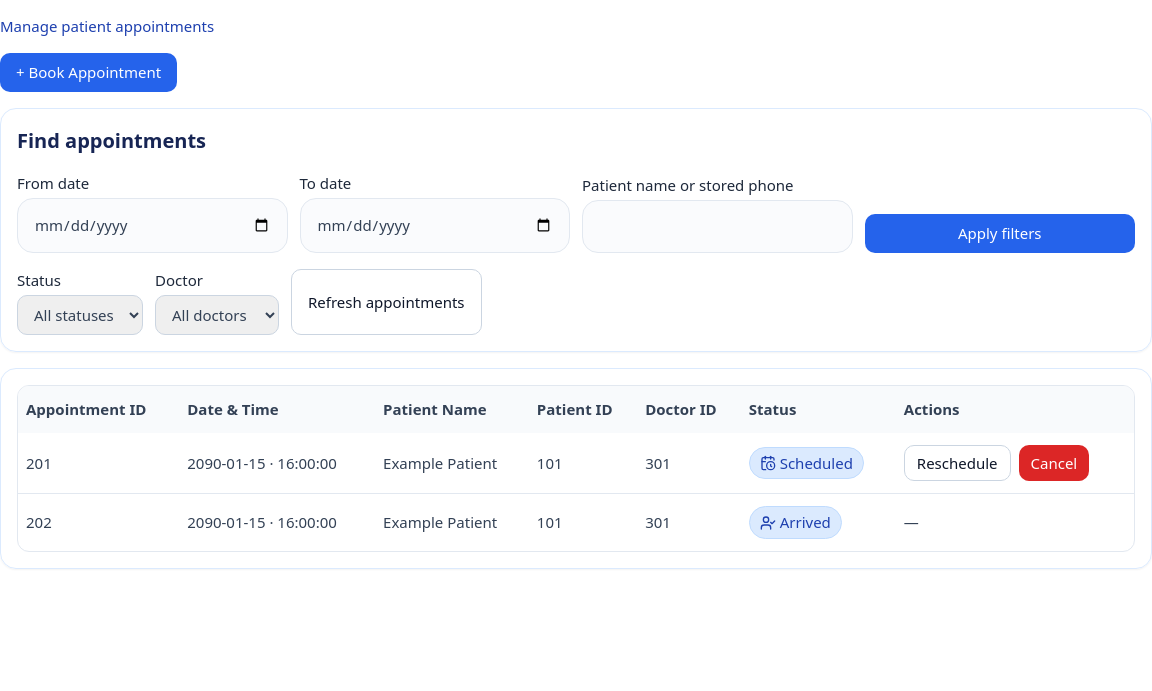
ADM-05 appointment hub › only offers Scheduled actions, confirms before mutations, and displays authoritative reschedule/cancel results
Click the button with aria-label "Reschedule appointment 201".
click(957, 463)  # box [904,445,1010,481]
(page scrolled)
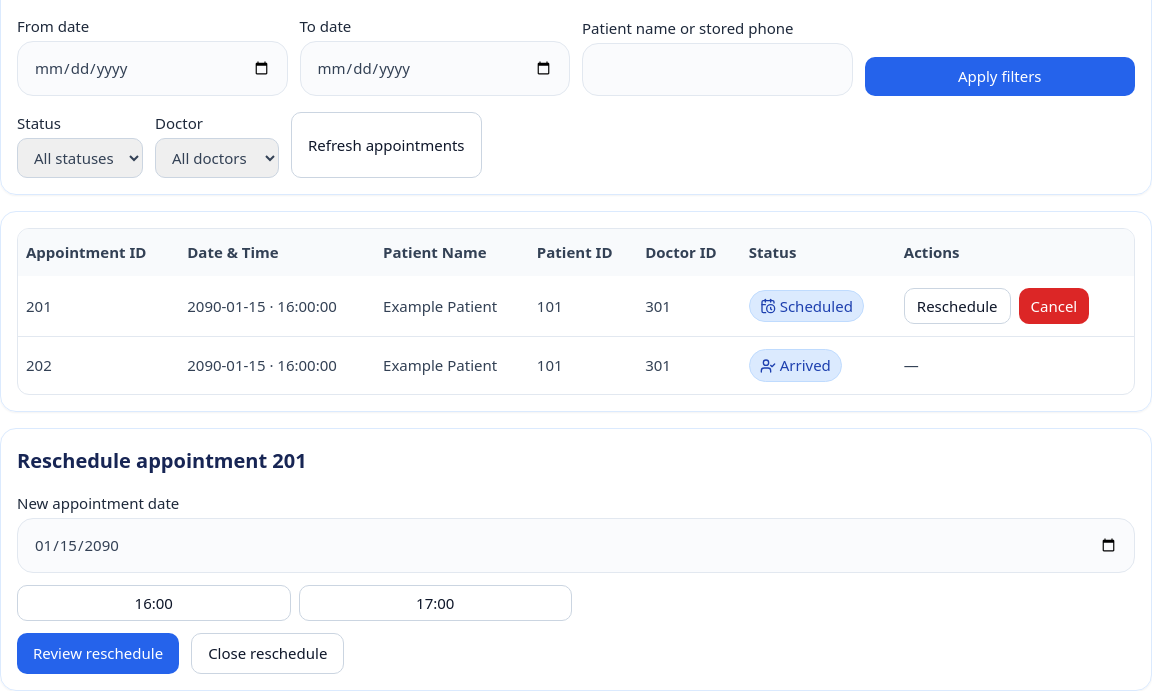
Click the button "17:00".
click(435, 603)  # box [298,585,572,621]
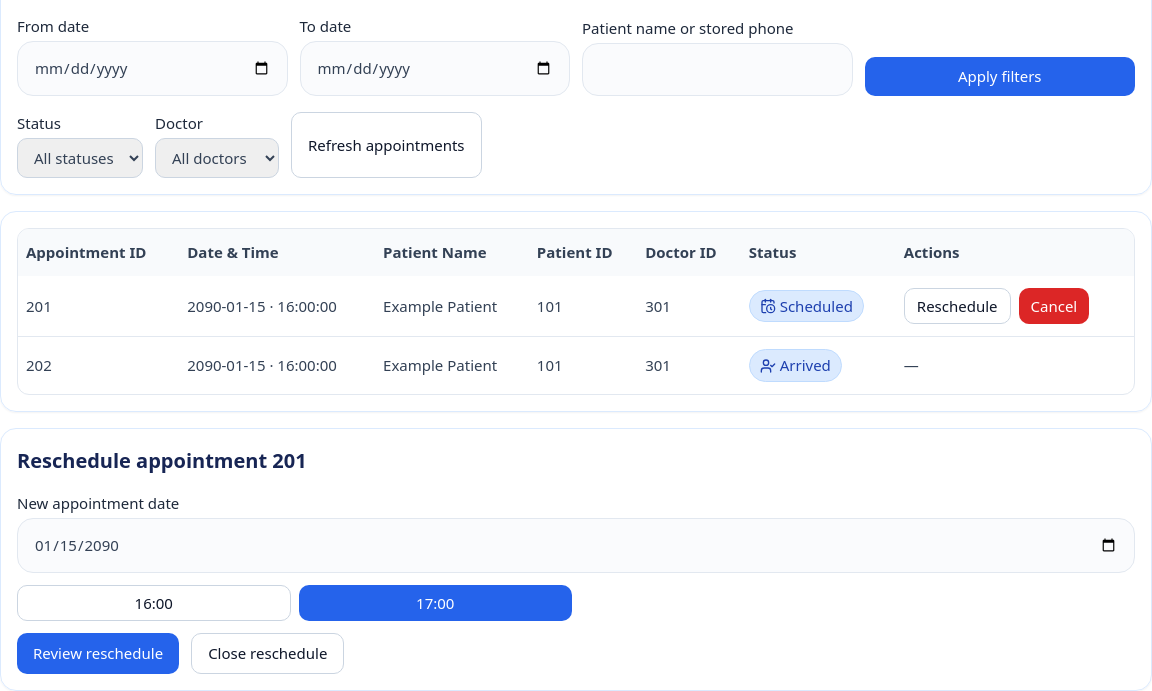
Click the button "Review reschedule".
click(98, 654)  # box [17,633,179,674]
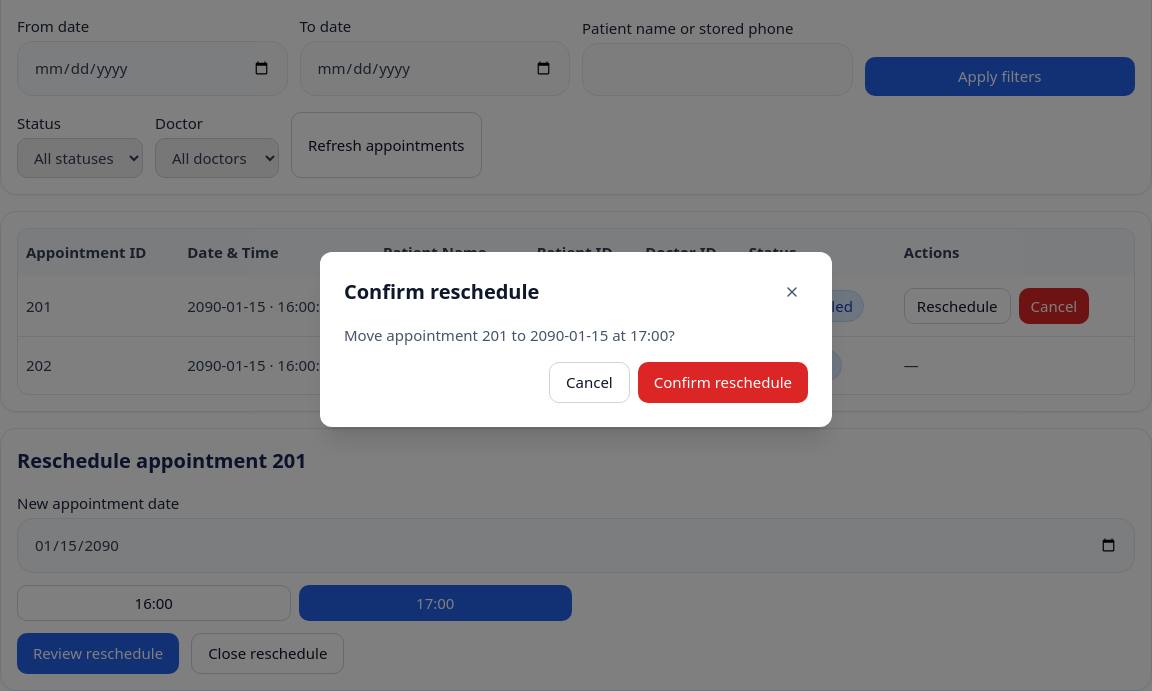
Click the button "Confirm reschedule".
click(723, 382)  # box [638,362,808,402]
(page scrolled)
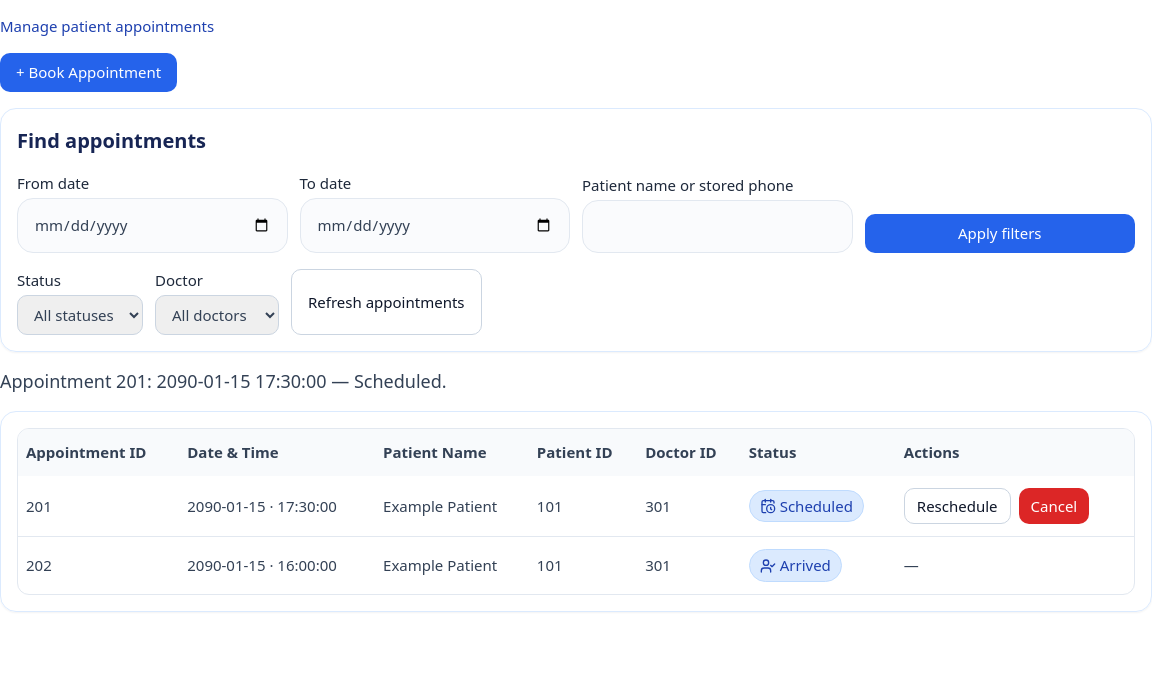
Now the text "Appointment 201: 2090-01-15 17:30:00 — Scheduled." is shown, box [0,369,447,393]
Click the button "Cancel".
click(1054, 506)  # box [1018,488,1089,524]
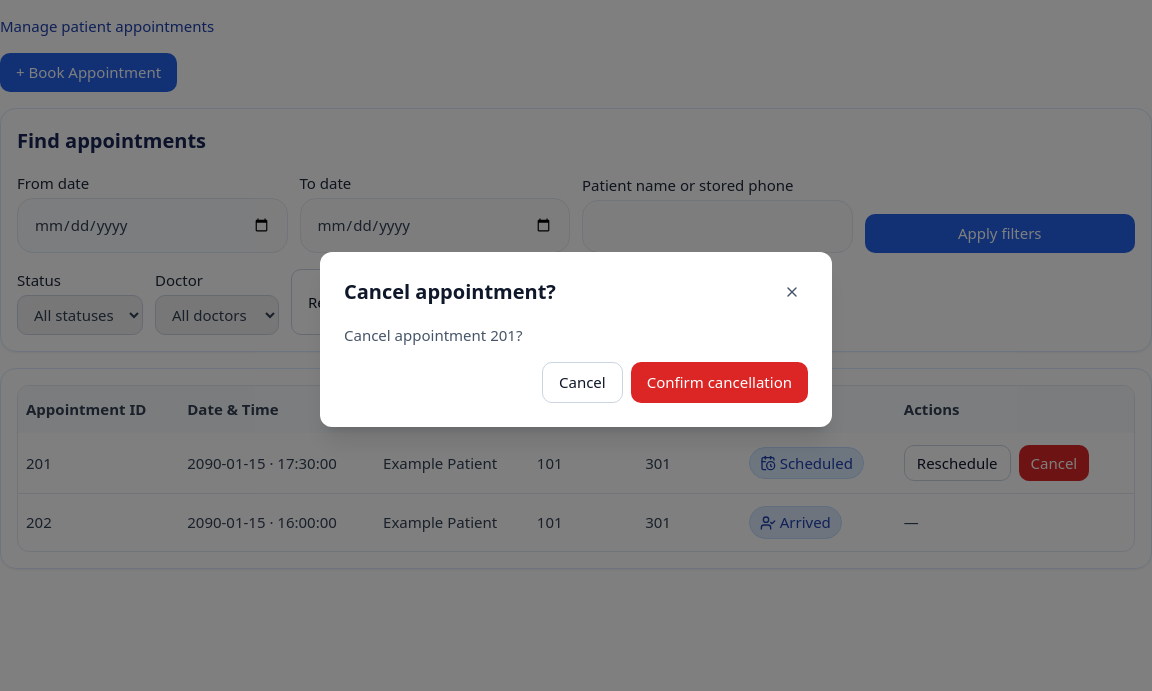
Click the button "Confirm cancellation".
click(719, 382)  # box [631,362,808,402]
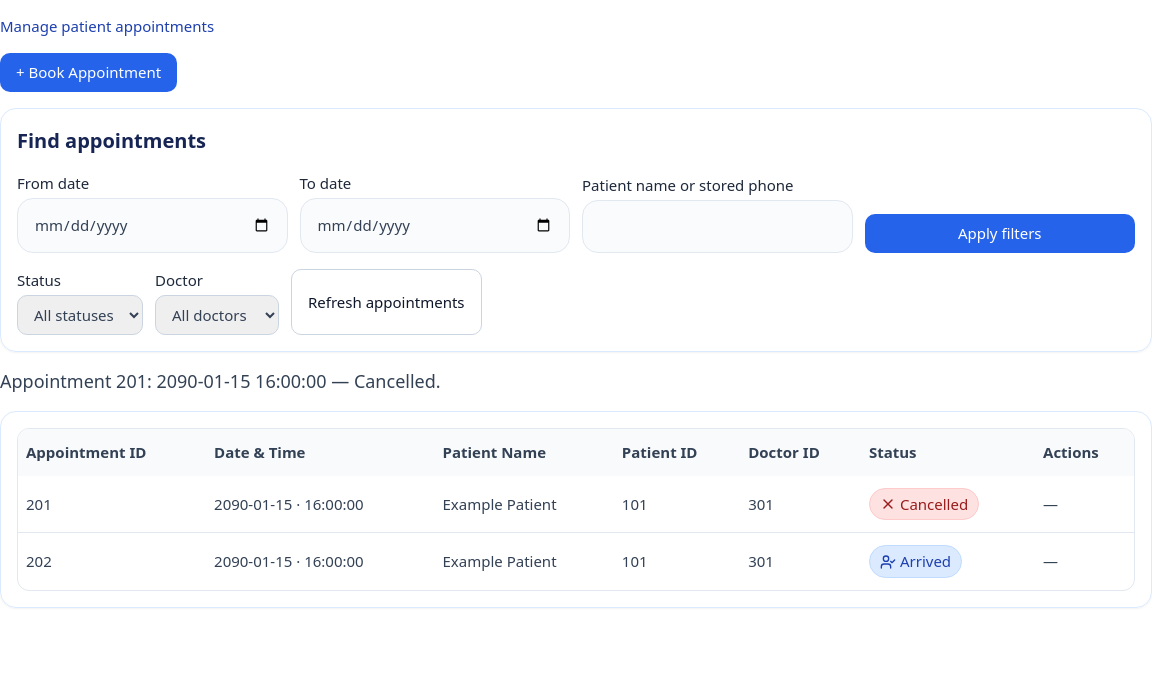
Now the text "Appointment 201: 2090-01-15 16:00:00 — Cancelled." is shown, box [0,369,441,393]
